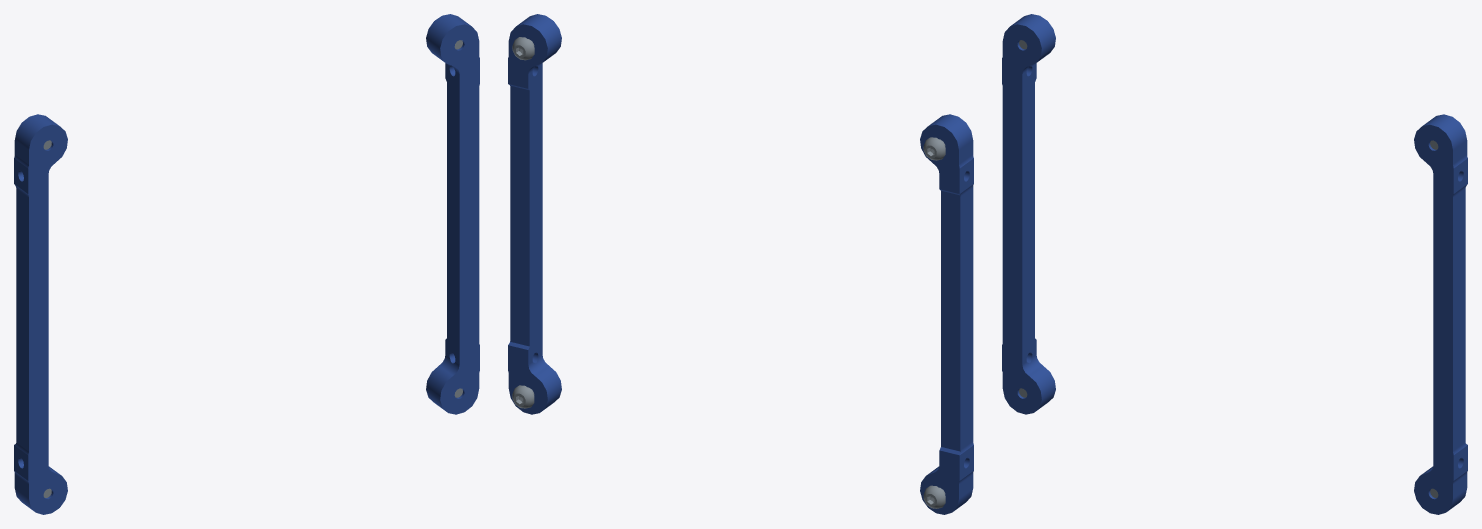
The model's file is bracket-iter2.glb.
The picture shows the model from 3 angles, left to right: view 1: azimuth 30°, elevation 25°; view 2: azimuth 150°, elevation 25°; view 3: azimuth 330°, elevation 25°; orthographic projection.
Visible parts, largest first — view 1: parts; view 2: parts; view 3: parts.
Part boxes in pixels (x1,y1,x2,y2): parts: (14, 14, 479, 514); parts: (508, 14, 973, 514); parts: (1002, 14, 1467, 514).
Bounding box in the file's own units: 92.29 × 75.88 × 8.04.
